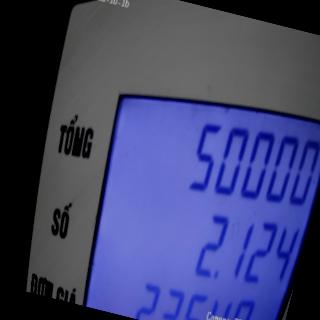screen: (60, 55, 320, 320)
